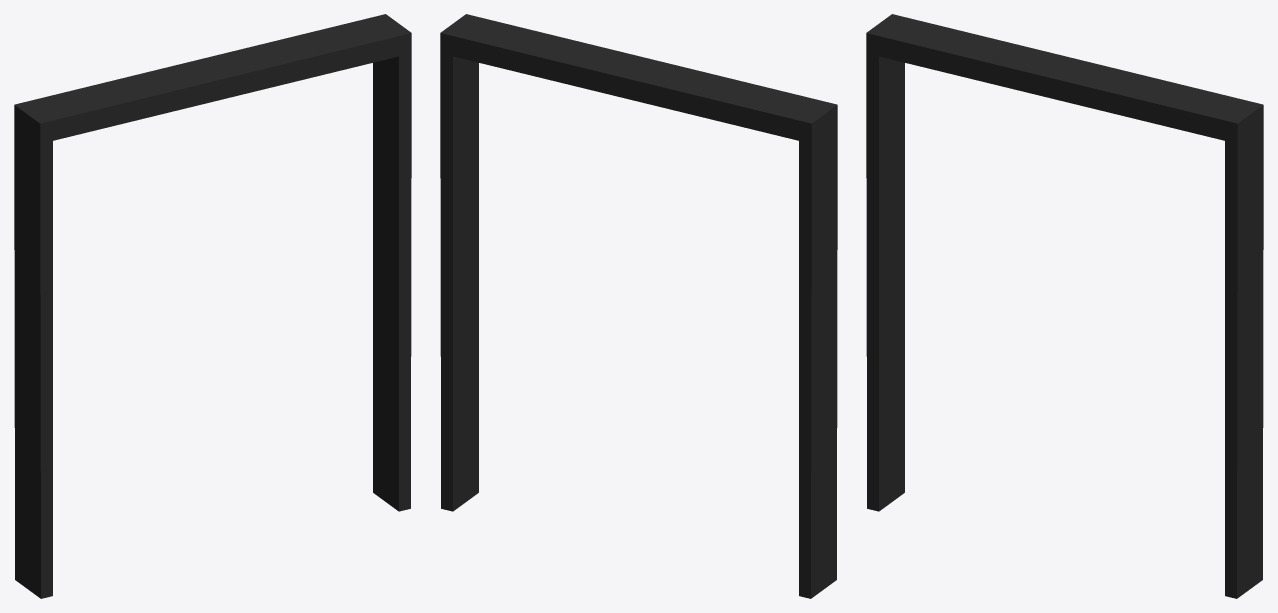
Rendered from door_frame_big.fbx.
3 views of the same model, side by side, from view 1: azimuth 30°, elevation 25°; view 2: azimuth 150°, elevation 25°; view 3: azimuth 330°, elevation 25° (orthographic).
Visible parts, largest first — view 1: door_frame_big; view 2: door_frame_big; view 3: door_frame_big.
Boxes of the visible parts, x1,y1,x2,y2 form: door_frame_big: (14, 14, 411, 598); door_frame_big: (440, 14, 837, 598); door_frame_big: (866, 14, 1263, 598).
Bounding box in the file's own units: 207 × 253 × 25.
